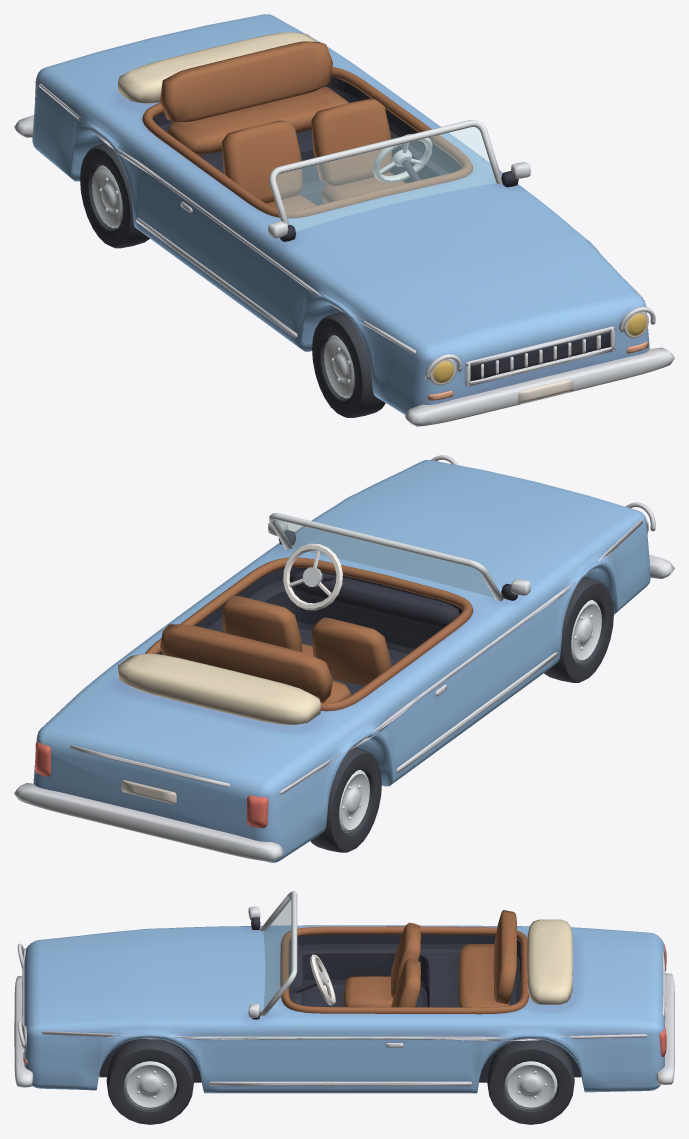
File: convertible.glb
3 renders of one model, top to bottom at view 1: azimuth 30°, elevation 25°; view 2: azimuth 150°, elevation 25°; view 3: azimuth 270°, elevation 25°, orthographic. The views are drawn at different scales.
Visible parts, largest first — view 1: body, glass, wheel_fr, wheel_rr; view 2: body, wheel_rr, glass, wheel_fr; view 3: body, wheel_fl, wheel_rl, glass.
Boxes of the visible parts, x1,y1,x2,y2 form: body: (14,14,674,426); glass: (276,127,495,231); wheel_fr: (312,312,385,417); wheel_rr: (80,143,149,248); body: (14,455,674,862); wheel_rr: (310,747,381,852); glass: (276,520,494,597); wheel_fr: (544,576,613,682); body: (14,891,674,1093); wheel_fl: (106,1038,193,1124); wheel_rl: (487,1040,574,1124); glass: (263,897,290,1007).
Bounding box in the file's own units: 1.84 × 1.17 × 4.83.
2 materials, 1 textured.
